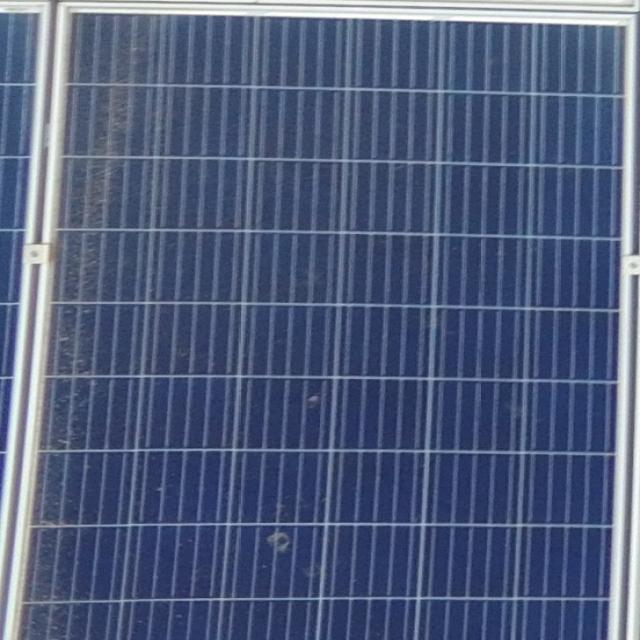Dust: (32, 9, 142, 640)
bird-droppings: (258, 528, 301, 557)
